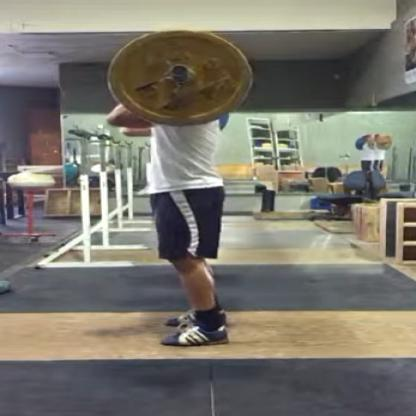Barbell: (164, 65, 197, 81)
